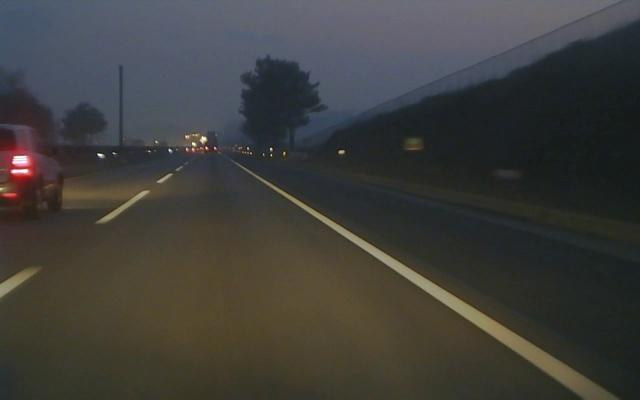lane: (231, 161, 630, 400), (0, 159, 191, 304)
